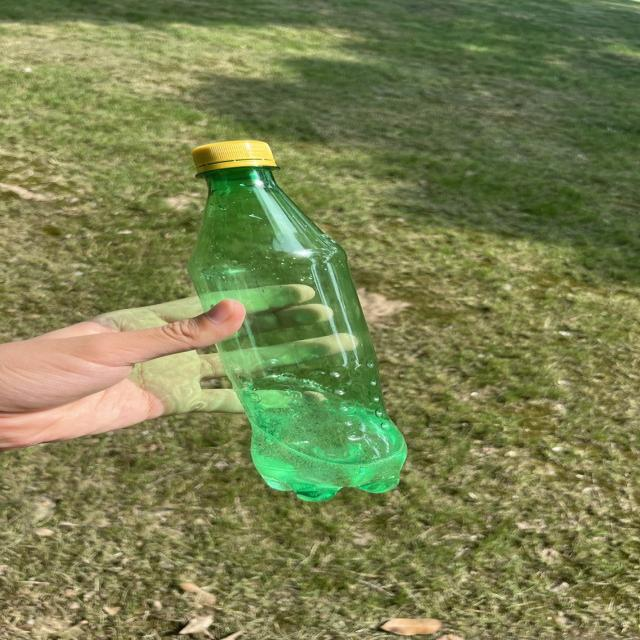low: (188, 140, 406, 501)
